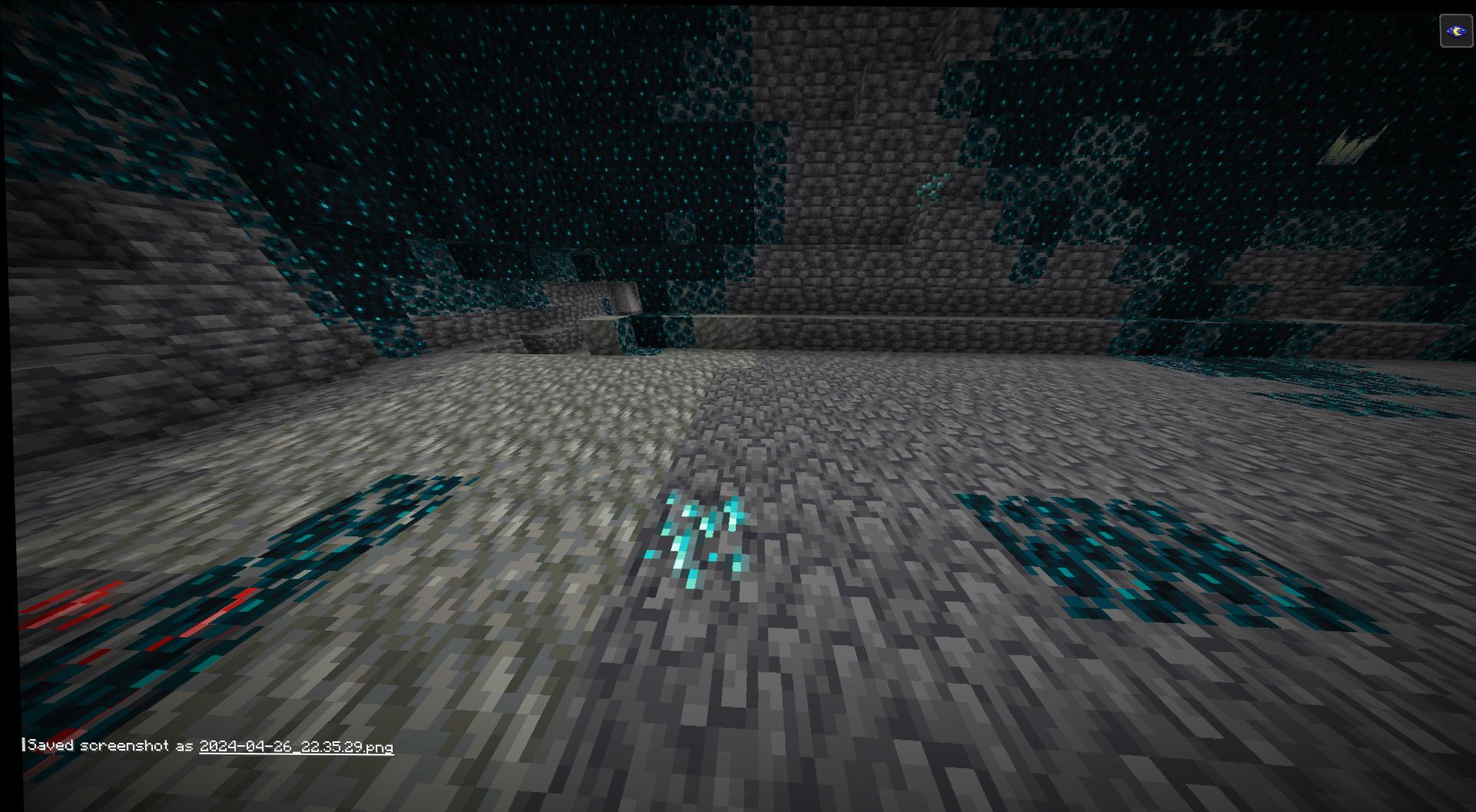diamond ore: (626, 482, 759, 593), (914, 169, 951, 207)
